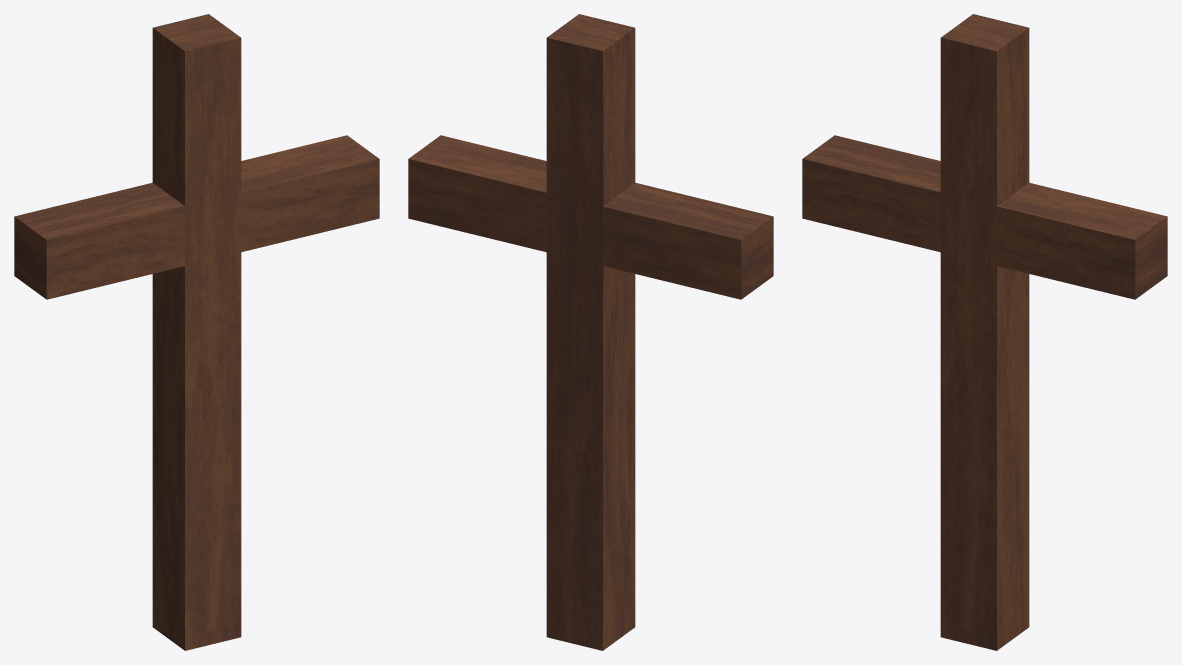
Rendered from Cross2.fbx.
3 views of the same model, side by side, from view 1: azimuth 30°, elevation 25°; view 2: azimuth 150°, elevation 25°; view 3: azimuth 330°, elevation 25° (orthographic).
Visible parts, largest first — view 1: Cross2; view 2: Cross2; view 3: Cross2.
Boxes of the visible parts, x1=… form: Cross2: x1=14, y1=14, x2=379, y2=650; Cross2: x1=408, y1=14, x2=773, y2=650; Cross2: x1=802, y1=14, x2=1167, y2=650.
Bounding box in the file's own units: 105 × 181 × 17.74.
